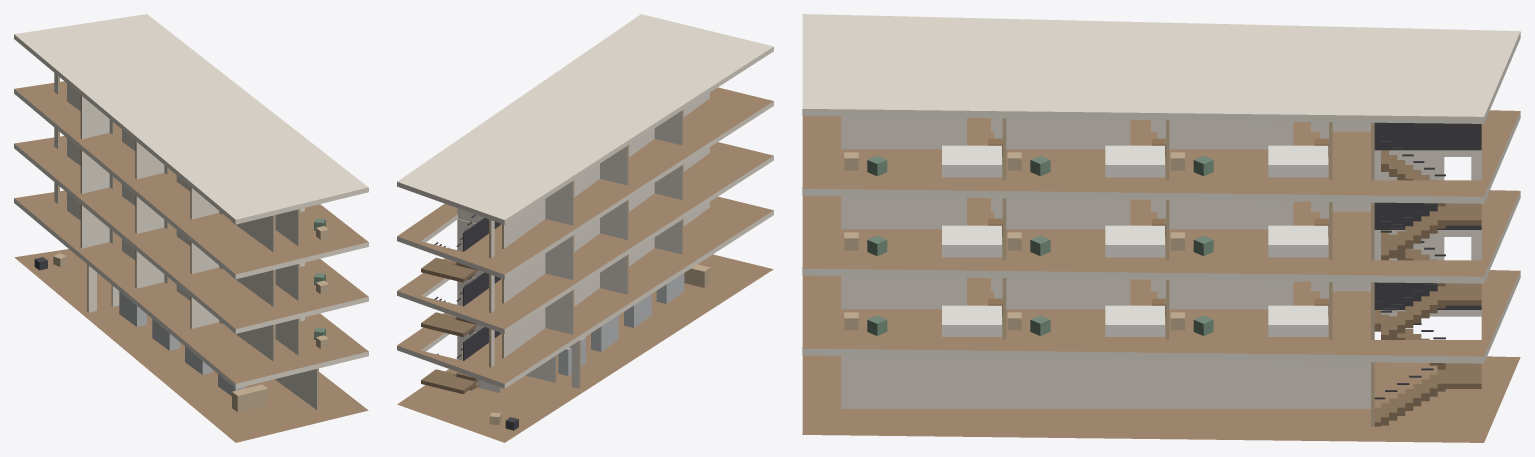
File: interior.glb
3 renders of one model, left to right at view 1: azimuth 30°, elevation 25°; view 2: azimuth 150°, elevation 25°; view 3: azimuth 270°, elevation 25°, orthographic. The views are drawn at different scales.
Parts seen in each view (by area): view 1: slabs, partitions, coarse-s0; view 2: slabs, partitions, stair, coarse-s0; view 3: slabs, partitions, stair, coarse-s3, coarse-s2, coarse-s1.
Boxes of the visible parts, x1,y1,x2,y2 form: slabs: [14, 14, 368, 442]; partitions: [54, 73, 318, 409]; coarse-s0: [34, 253, 267, 412]; slabs: [397, 14, 773, 442]; partitions: [457, 93, 709, 392]; stair: [421, 214, 500, 394]; coarse-s0: [489, 264, 710, 430]; slabs: [802, 14, 1520, 442]; partitions: [841, 116, 1481, 426]; stair: [1374, 122, 1481, 426]; coarse-s3: [844, 138, 1328, 177]; coarse-s2: [844, 218, 1328, 257]; coarse-s1: [844, 298, 1328, 336].
Size of the model in its own units: 8.12 by 12.02 by 23.96.
